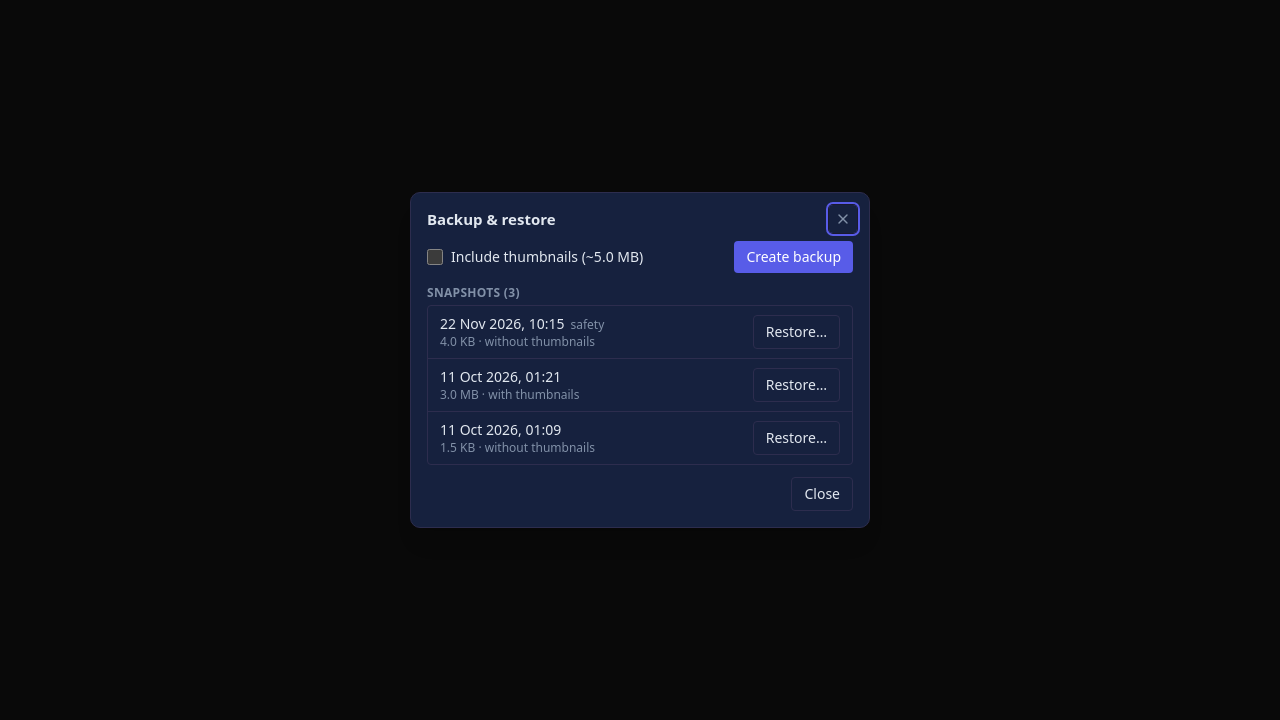
Test: BackupRestoreDialog › create outcome {"status":200,"body":{"ok":false,"snapshot":null,"members":[]}} is shown inline; no toast
The width and height of the screenshot is (1280, 720).
Click the button "Create backup" at (794, 257), box [734,241,853,273]
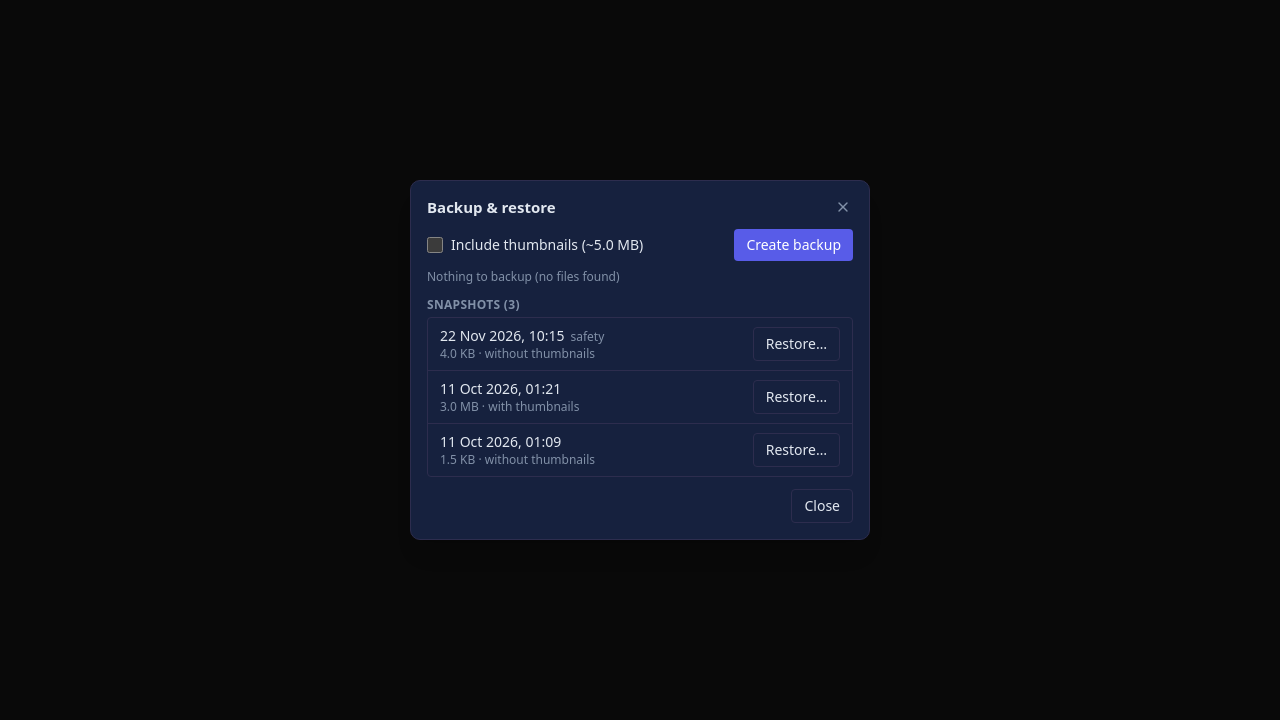
Expected: the message "Nothing to backup (no files found)" is shown, [427,268,620,285]
